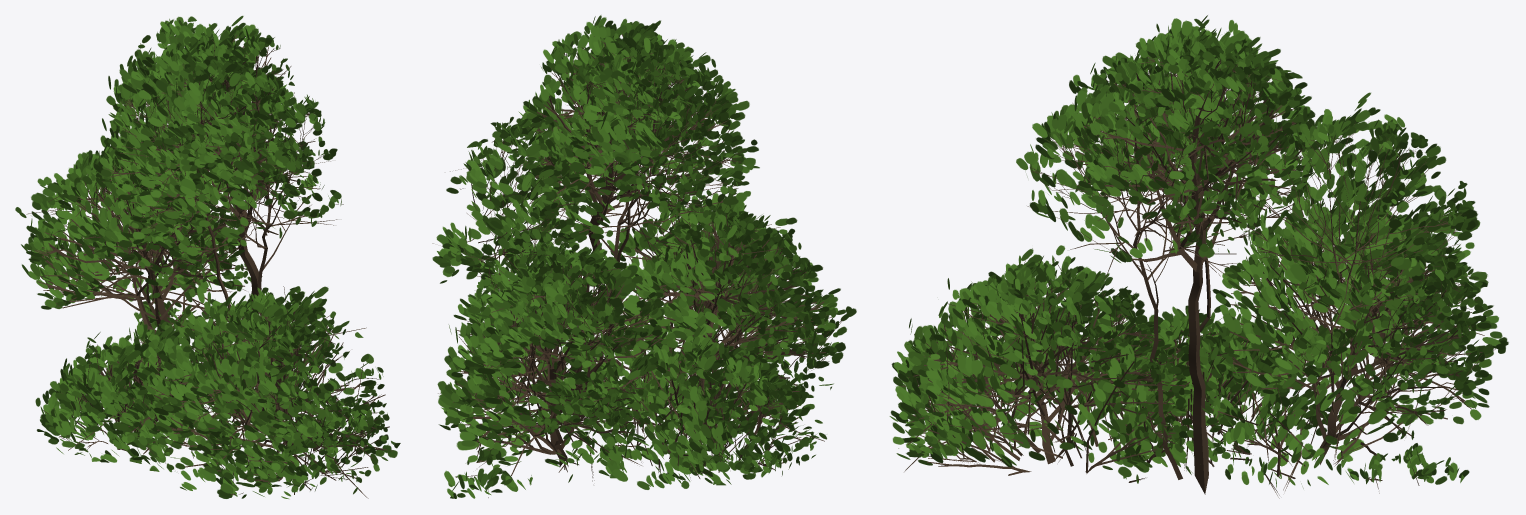
3 renders of one model, left to right at view 1: azimuth 30°, elevation 25°; view 2: azimuth 150°, elevation 25°; view 3: azimuth 270°, elevation 25°, orthographic. The views are drawn at different scales.
Visible parts, largest first — view 1: oak 01.001_trunk_Mat.001_0.301; view 2: oak 01.001_trunk_Mat.001_0.301; view 3: oak 01.001_trunk_Mat.001_0.301.
Boxes of the visible parts, box(x1,y1,x2,y2) form: oak 01.001_trunk_Mat.001_0.301: box(15, 15, 400, 498); oak 01.001_trunk_Mat.001_0.301: box(432, 15, 856, 498); oak 01.001_trunk_Mat.001_0.301: box(889, 15, 1508, 498).
Bounding box in the file's own units: 2.68 × 3.91 × 4.89.
2 materials, 1 textured.
